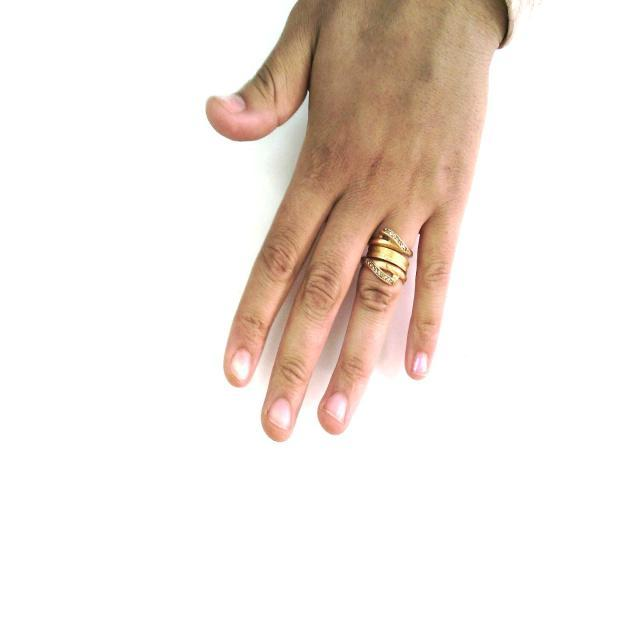Fingernail: (231, 349, 251, 381), (270, 399, 290, 429), (326, 394, 346, 419), (219, 96, 244, 112), (413, 354, 427, 375)
